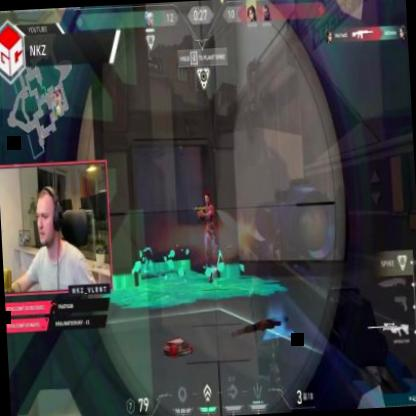enemy: (198, 191, 220, 282)
enemy_head: (204, 192, 210, 206)
